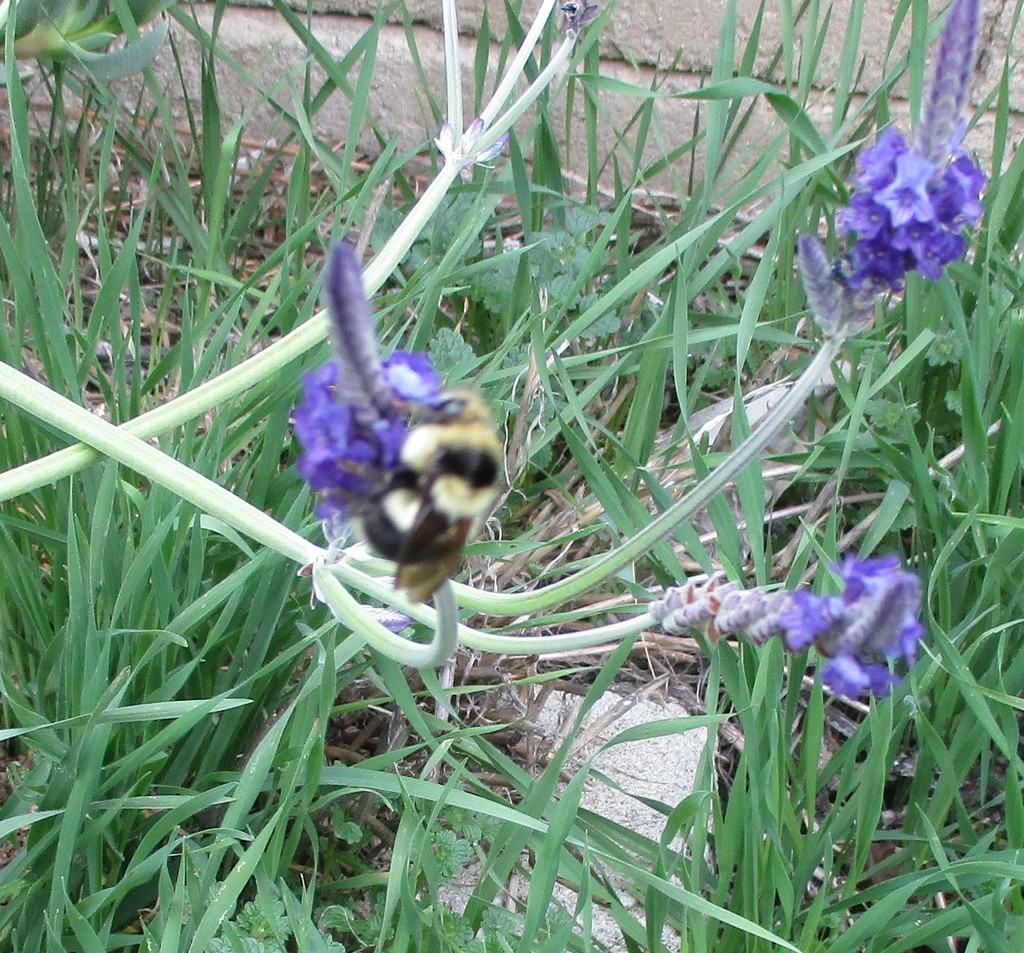bumblebee: (364, 389, 503, 605)
